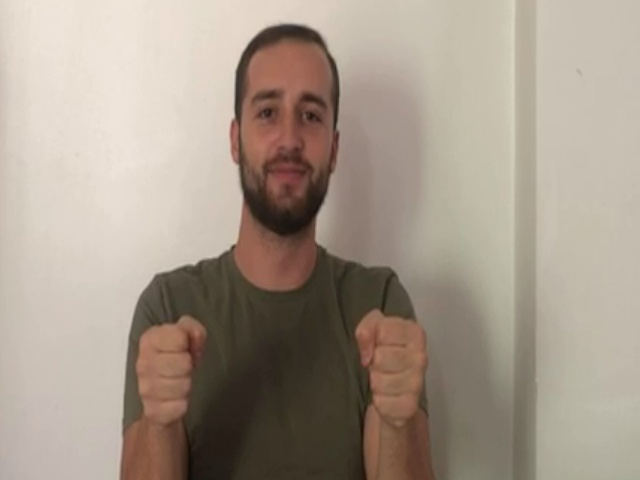Sili: (132, 307, 429, 433)
